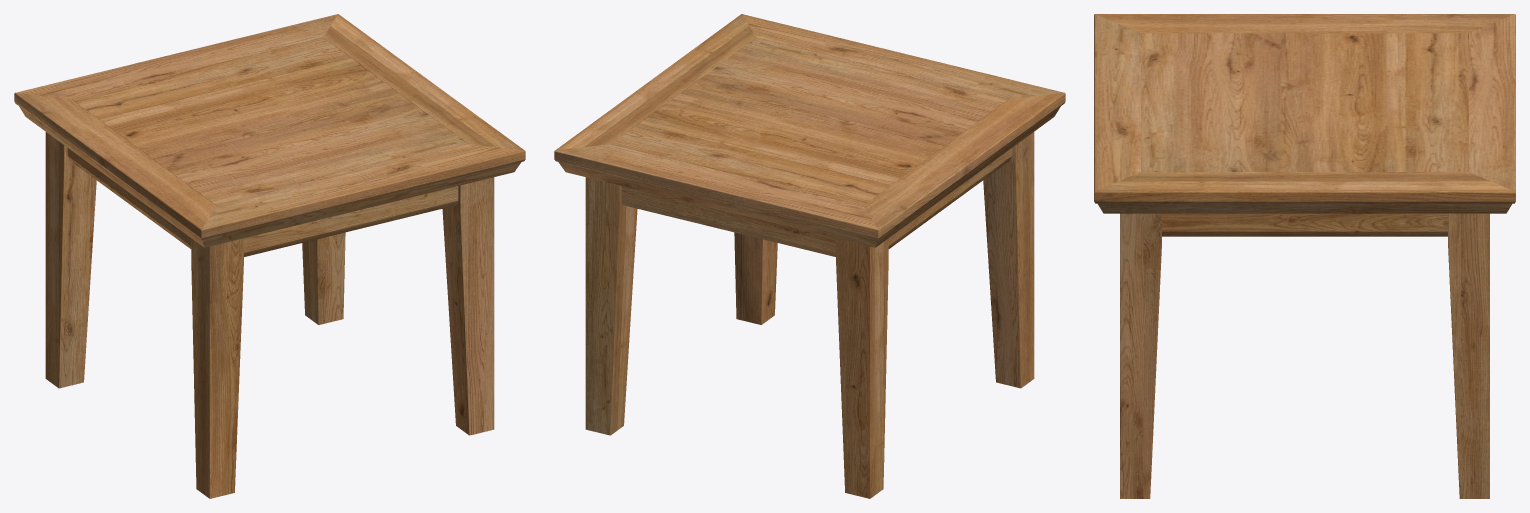
The model's file is table-test-texture.glb.
3 renders of one model, left to right at view 1: azimuth 30°, elevation 25°; view 2: azimuth 150°, elevation 25°; view 3: azimuth 270°, elevation 25°, orthographic. The views are drawn at different scales.
Parts seen in each view (by area): view 1: 10089_Table-90x90_01; view 2: 10089_Table-90x90_01; view 3: 10089_Table-90x90_01.
Part boxes in pixels (x1,y1,x2,y2): 10089_Table-90x90_01: (14, 14, 525, 498); 10089_Table-90x90_01: (554, 14, 1065, 498); 10089_Table-90x90_01: (1094, 14, 1515, 498).
Bounding box in the file's own units: 0.9 × 0.749 × 0.9.
Materials: 1 (1 with a texture image).
